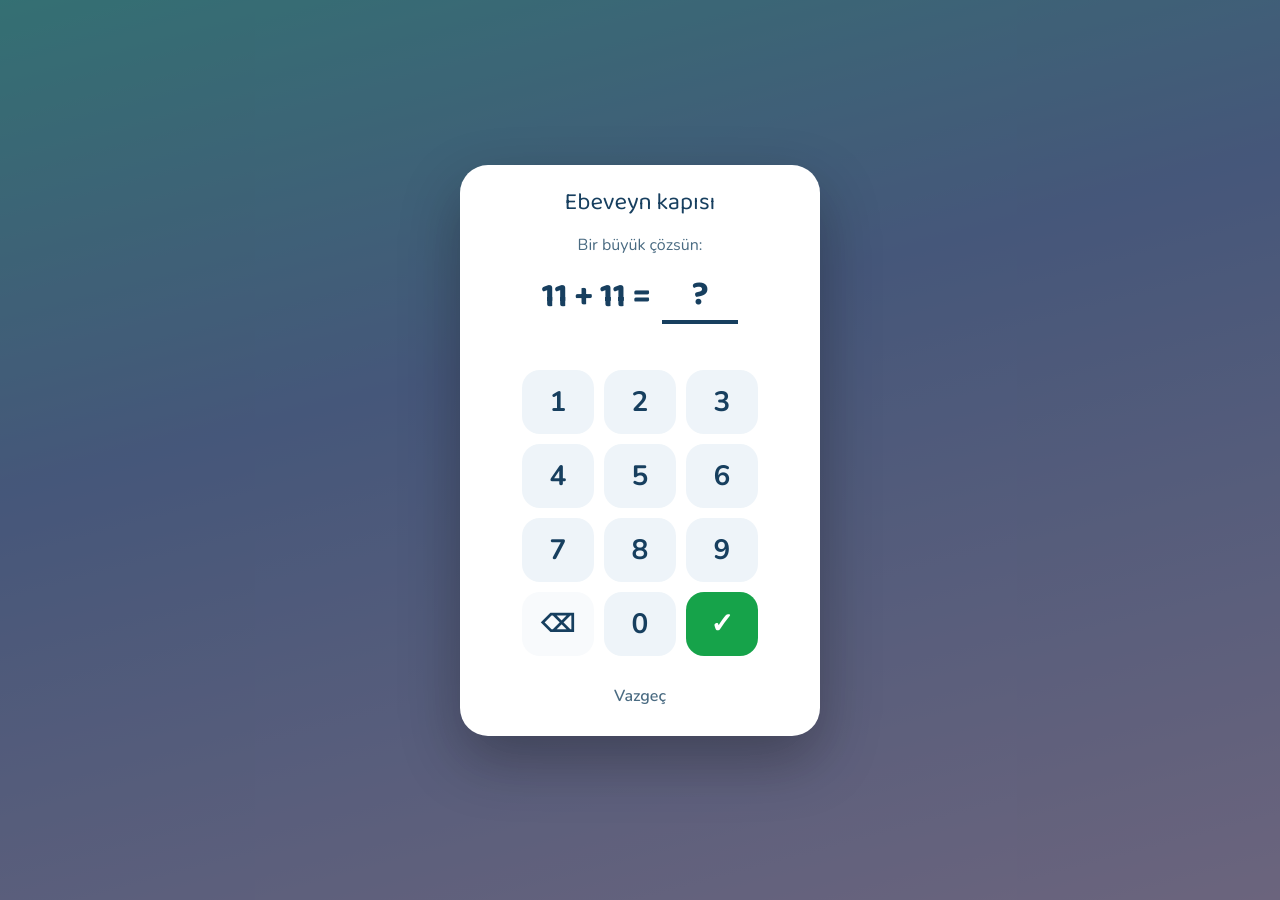
ArithmeticGate › yanlış cevap geçirmez, yeni soru sorar
The width and height of the screenshot is (1280, 900).
expect the text "11 + 11 =" is shown: met, box [542,270,650,322]
Click the button "2" at point(640, 402), box [604,370,676,434]
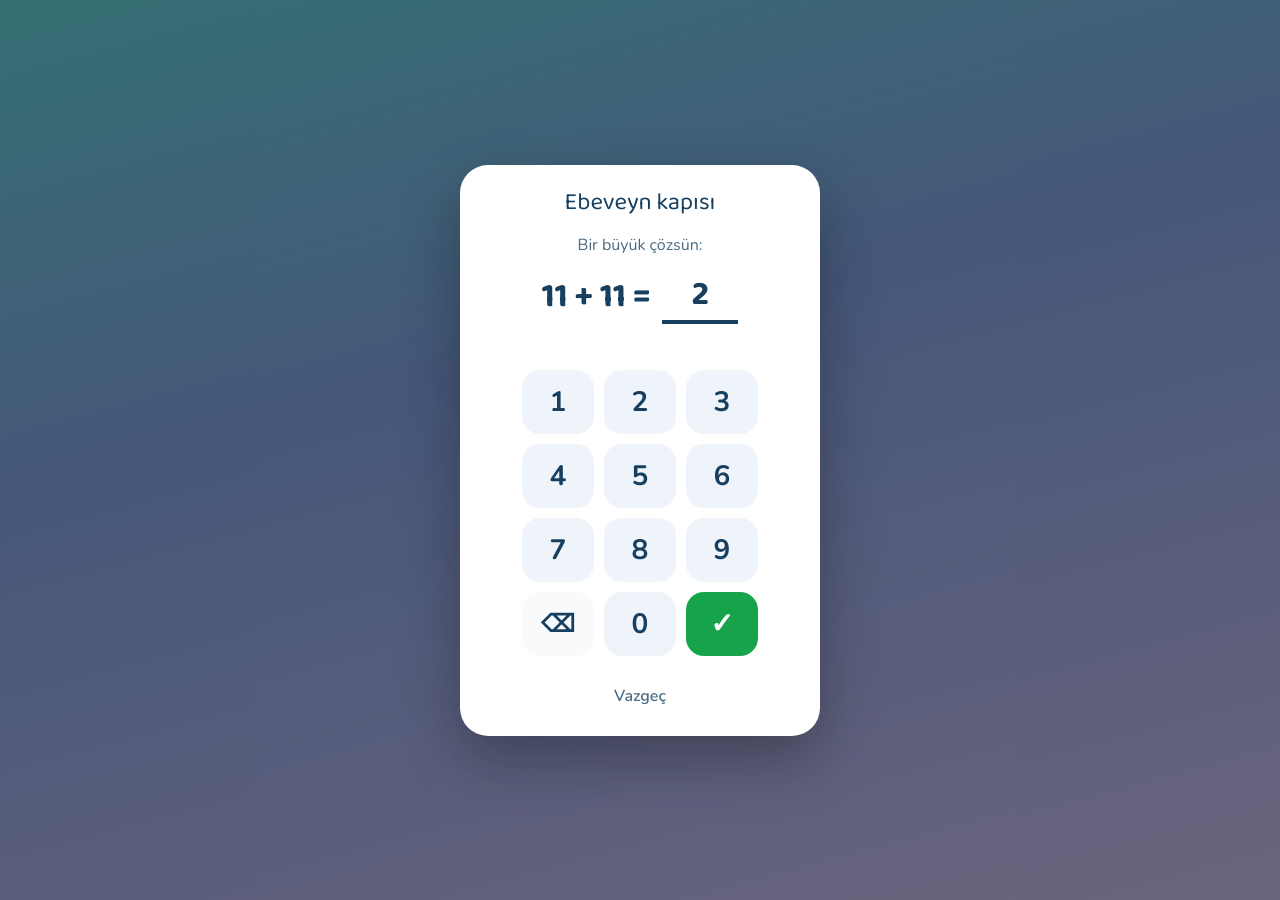
Click the button "1" at point(558, 402), box [522,370,594,434]
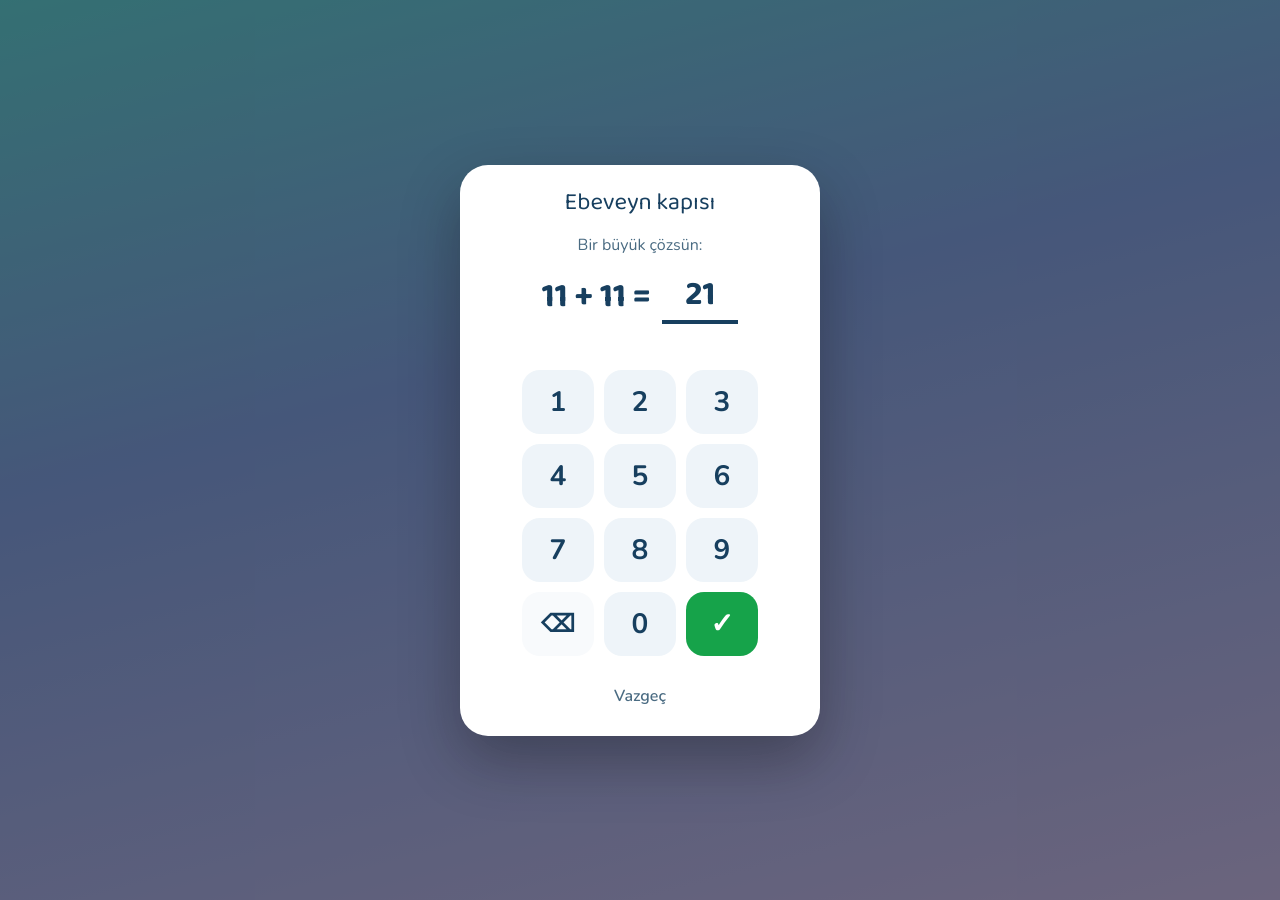
Click the button named "Tamam" at point(722, 624), box [686,592,758,656]
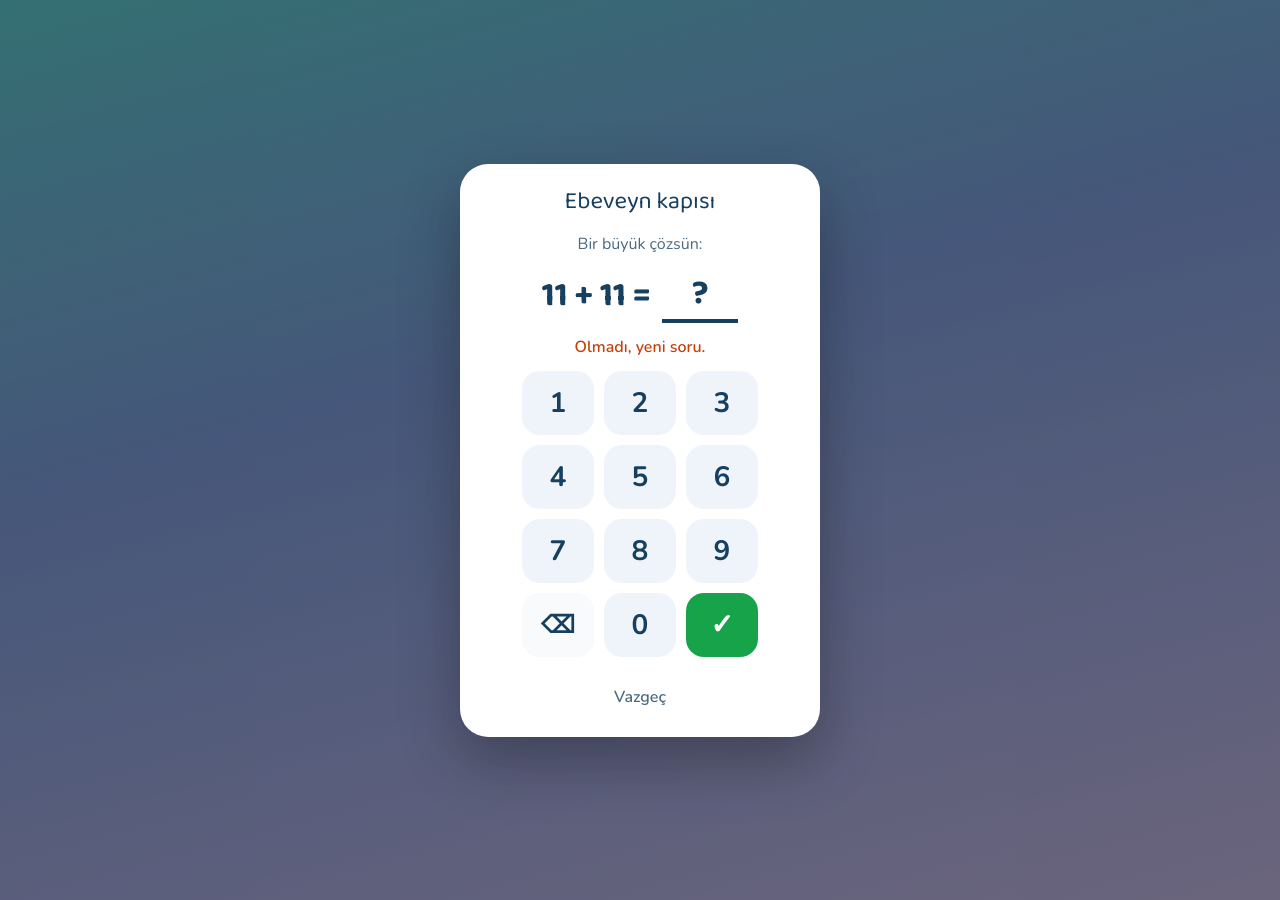
expect the message shows "Olmadı": met, box [575,336,705,358]
expect the text named "Cevap" reads "?": met, box [692,266,709,320]
